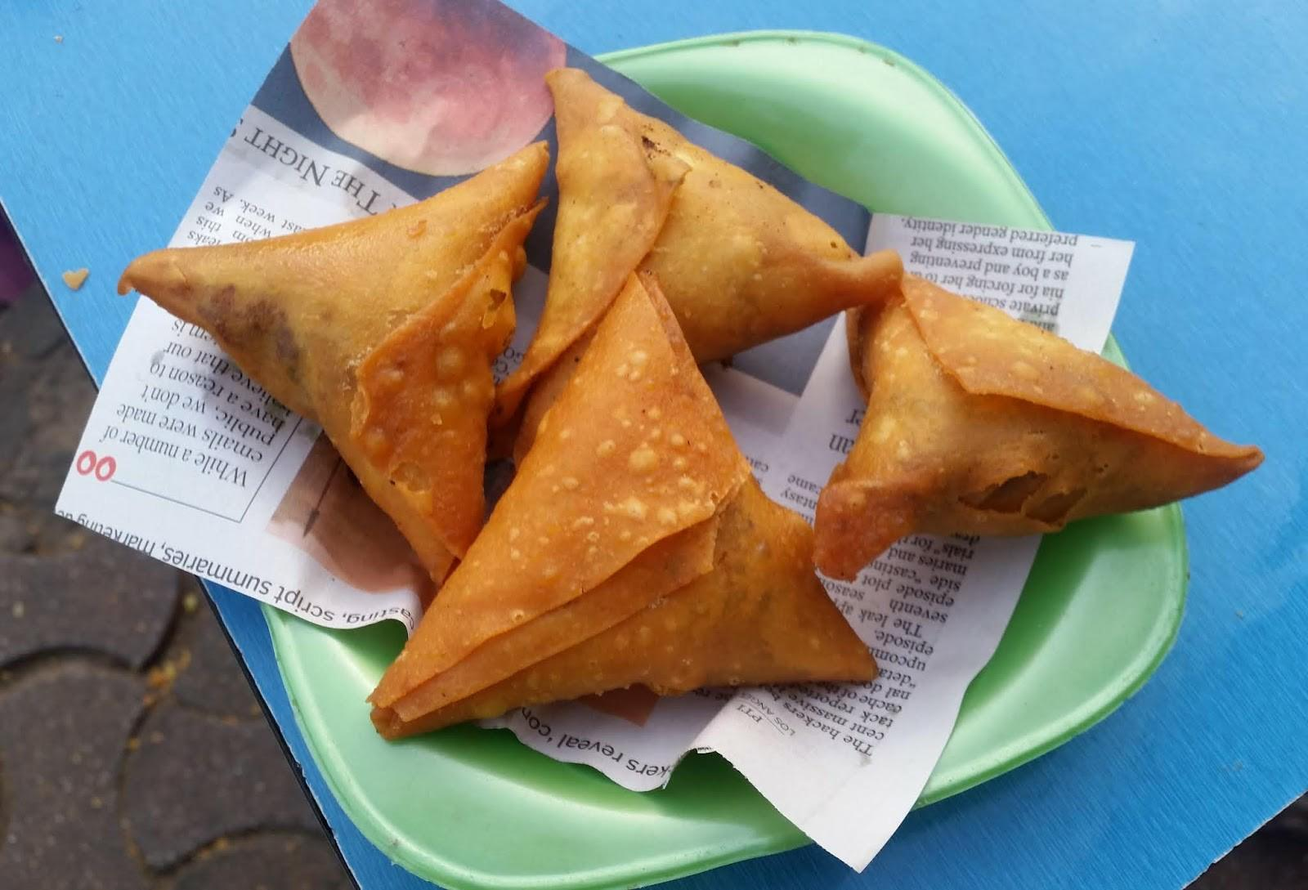Samosa: (370, 272, 878, 743), (119, 138, 548, 577), (502, 63, 902, 426), (816, 270, 1258, 578)
